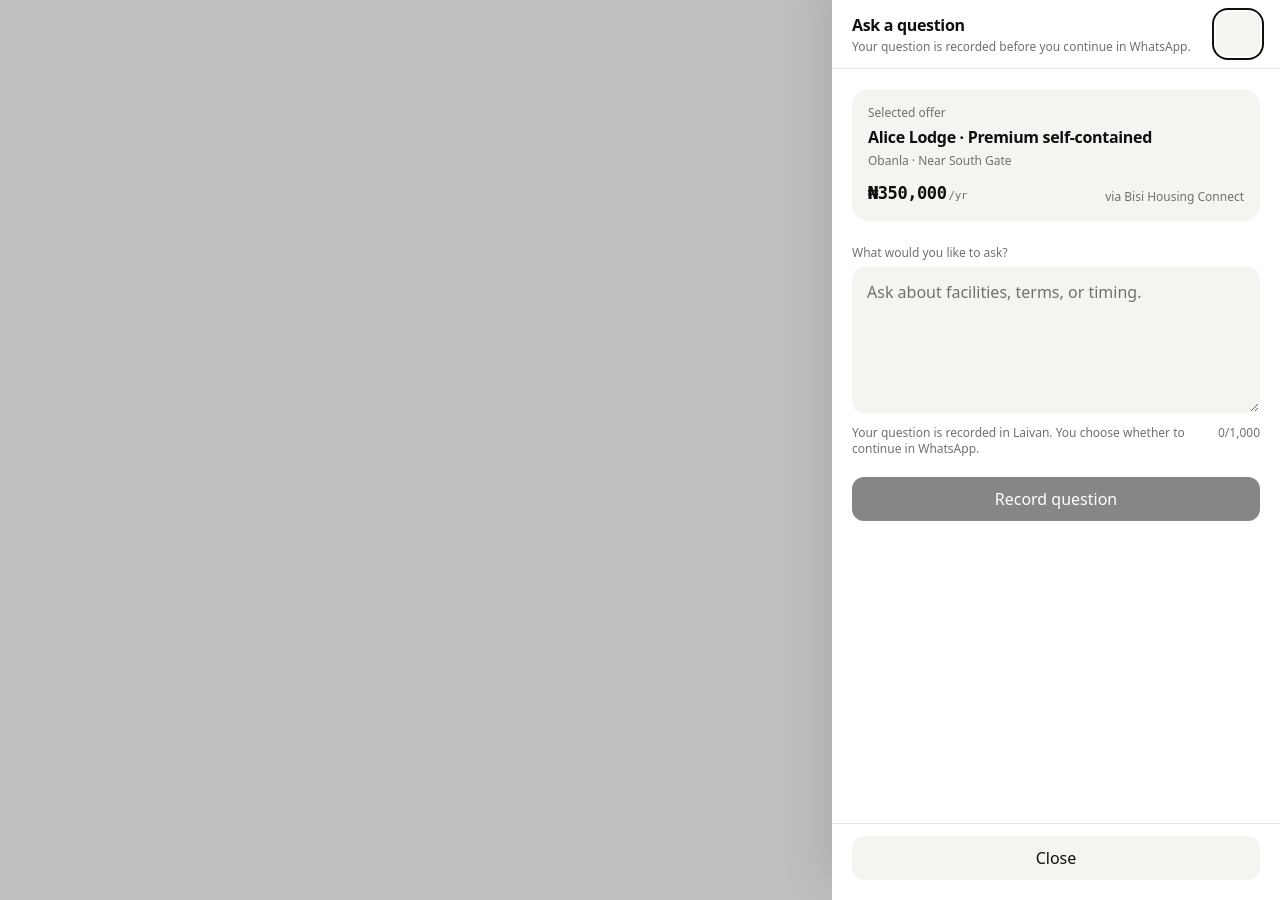
Test: InquirySheet › shows factual offer-unavailable feedback and invalidates the property query
Type "Is this still available?" into the text box labelled "What would you like to ask?" at x=1056, y=340, box x1=852 y1=267 x2=1260 y2=413
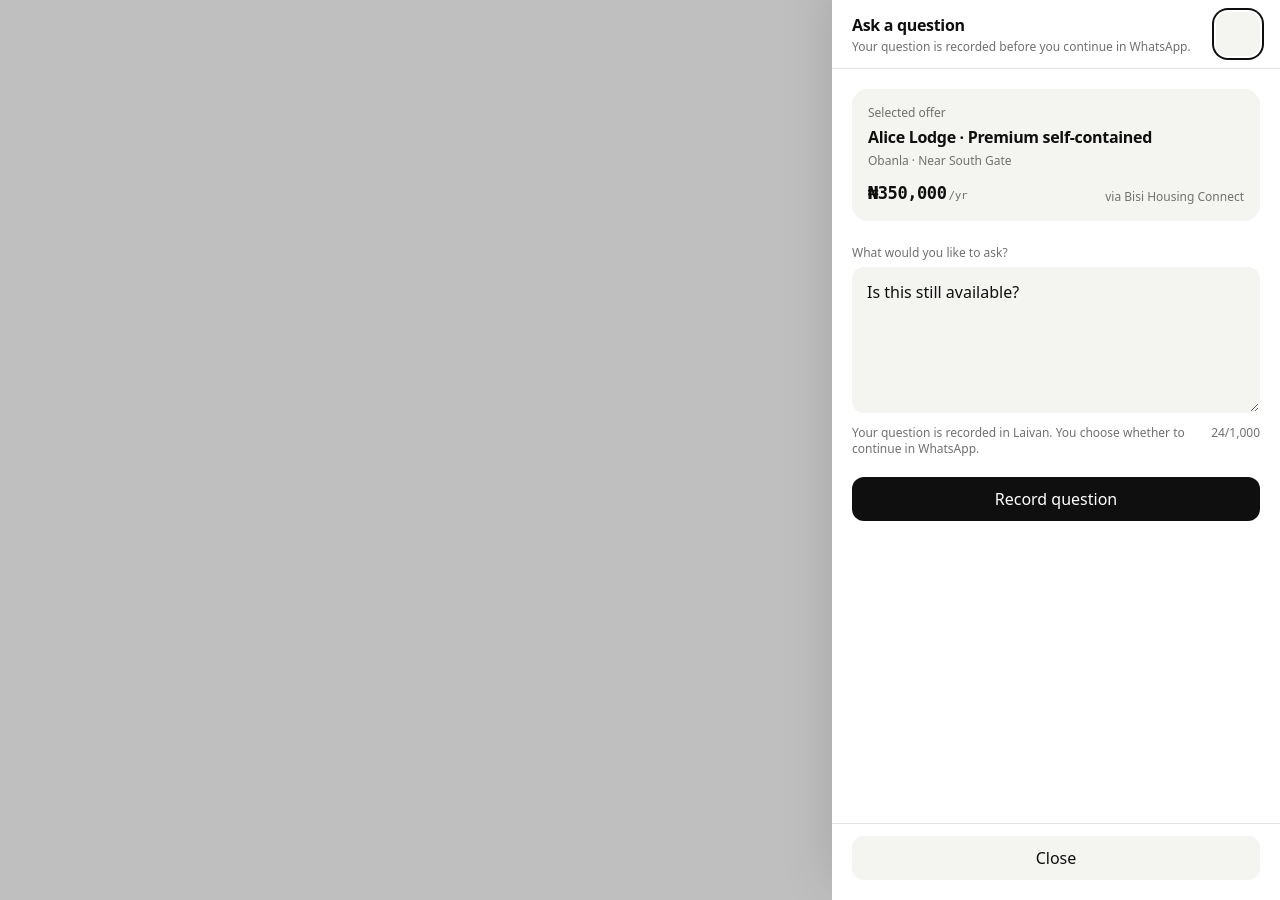
expect the button "Record question" is enabled: met
Click the button "Record question" at x=1056, y=499, box x1=852 y1=477 x2=1260 y2=521
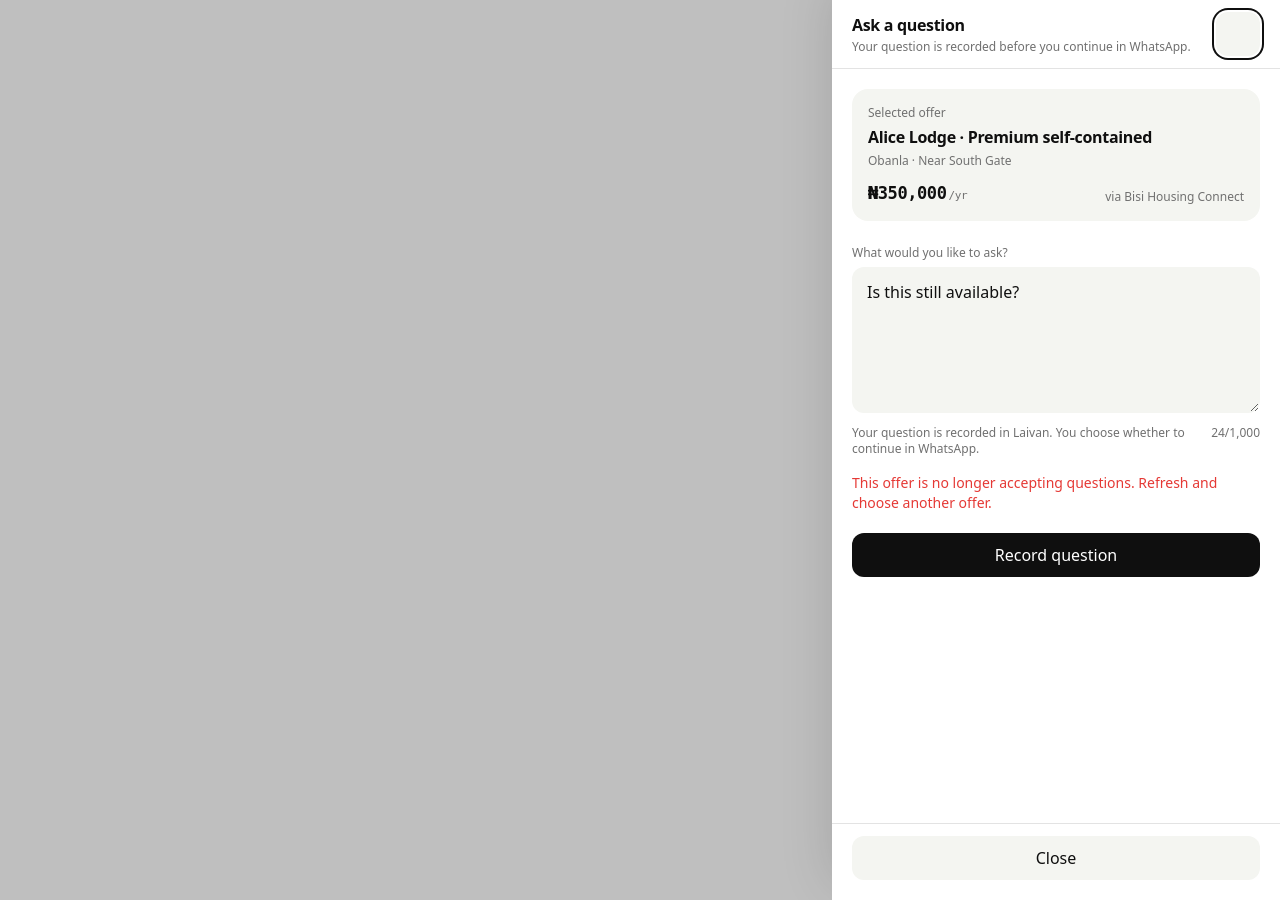
expect the message reads "This offer is no longer accepting questions. Refresh and choose another offer.": met, box x1=852 y1=473 x2=1217 y2=512
